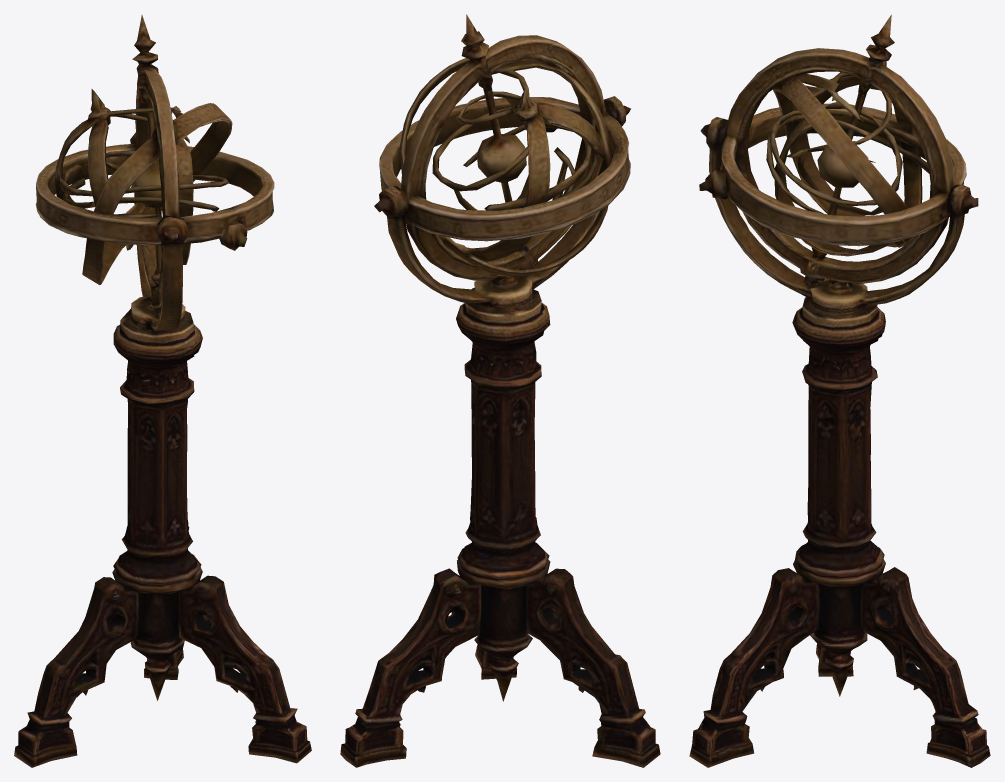
Rendered from globe.glb.
3 renders of one model, left to right at view 1: azimuth 30°, elevation 25°; view 2: azimuth 150°, elevation 25°; view 3: azimuth 270°, elevation 25°, orthographic. The views are drawn at different scales.
Visible parts, largest first — view 1: globe; view 2: globe; view 3: globe.
Boxes of the visible parts, left/top/right/bottom form: globe: left=14, top=15, right=311, bottom=767; globe: left=340, top=14, right=660, bottom=767; globe: left=689, top=14, right=990, bottom=767.
Bounding box in the file's own units: 0.6912 × 1.9 × 0.7268.
Materials: 1 (1 with a texture image).
